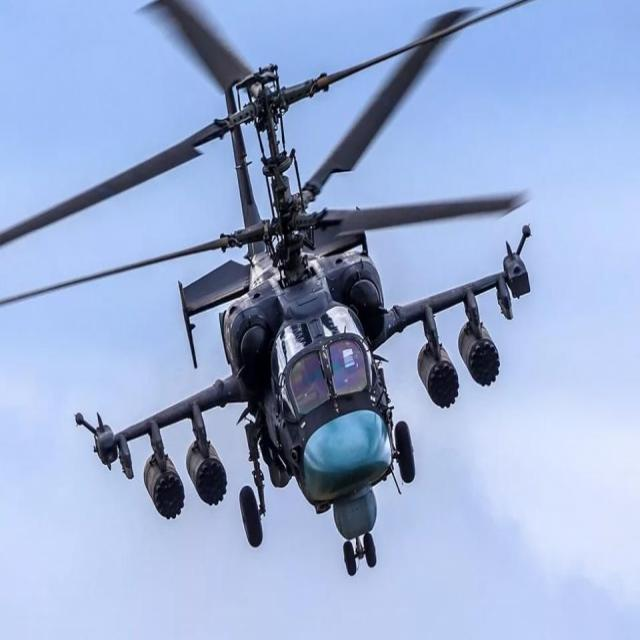MIL_HELO: (3, 0, 533, 587)
